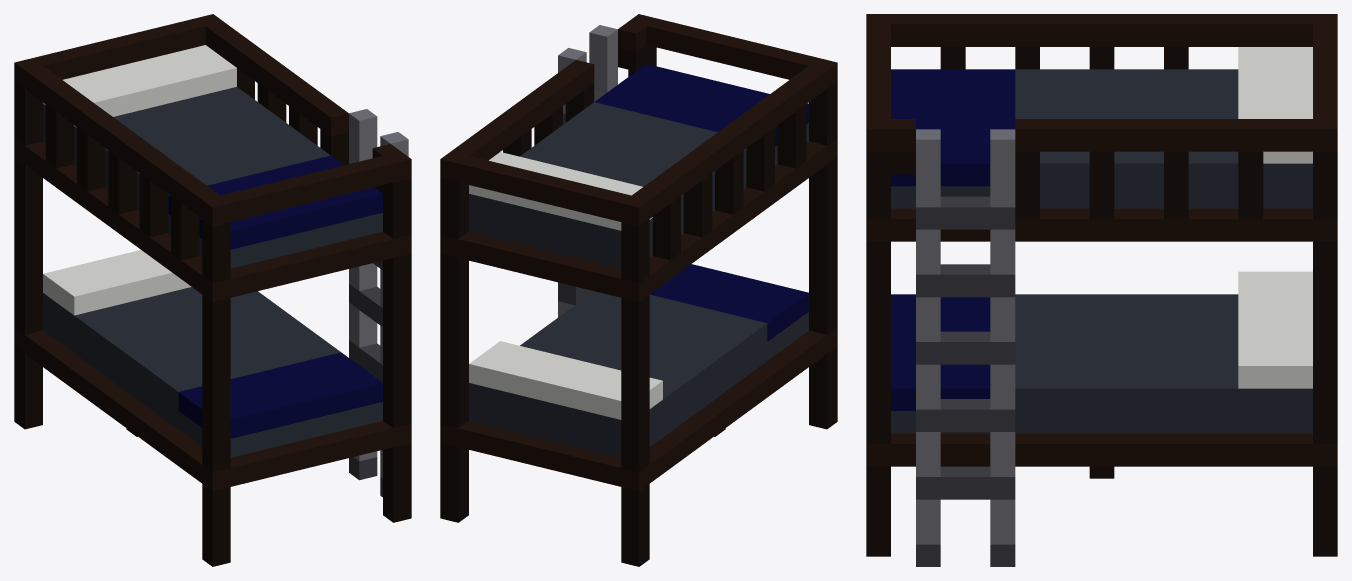
File: bunkbed.fbx
3 renders of one model, left to right at view 1: azimuth 30°, elevation 25°; view 2: azimuth 150°, elevation 25°; view 3: azimuth 270°, elevation 25°, orthographic. The views are drawn at different scales.
Visible parts, largest first — view 1: VoxelMesh; view 2: VoxelMesh; view 3: VoxelMesh.
Boxes of the visible parts, <box> form: VoxelMesh: <box>14,14,411,566</box>; VoxelMesh: <box>440,14,837,566</box>; VoxelMesh: <box>866,14,1337,566</box>.
Size of the model in its own units: 12 by 19 by 19.
